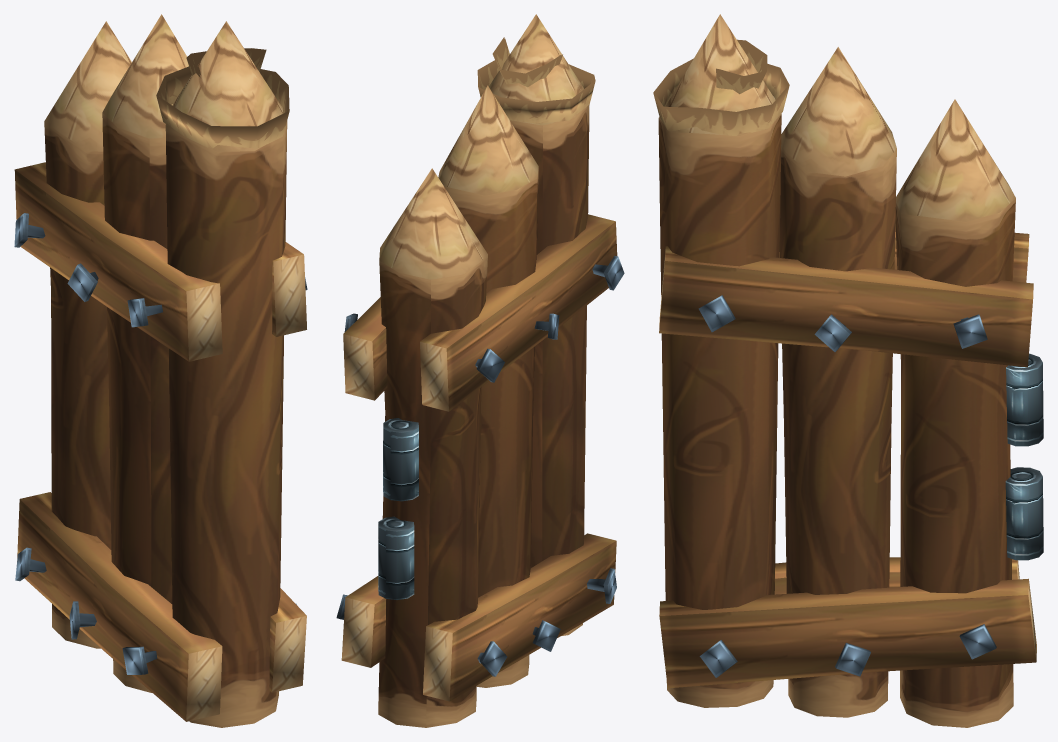
The model's file is gates_right.fbx.
3 views of the same model, side by side, from view 1: azimuth 30°, elevation 25°; view 2: azimuth 150°, elevation 25°; view 3: azimuth 270°, elevation 25° (orthographic). The views are drawn at different scales.
Visible parts, largest first — view 1: gates_right; view 2: gates_right; view 3: gates_right.
Part boxes in pixels (<box>): gates_right: <box>14,14,307,727</box>; gates_right: <box>336,14,624,727</box>; gates_right: <box>653,14,1043,727</box>.
Bounding box in the file's own units: 1.68 × 6.2 × 3.19.
